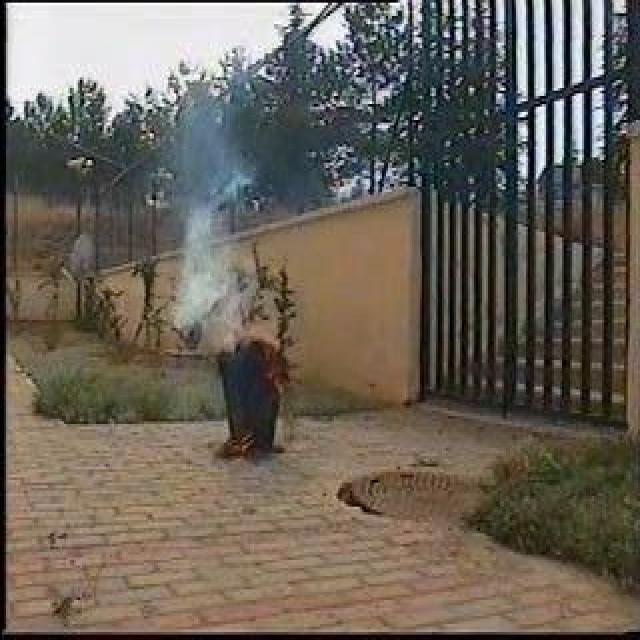fire: (252, 319, 298, 393)
smoke: (158, 127, 252, 337)
